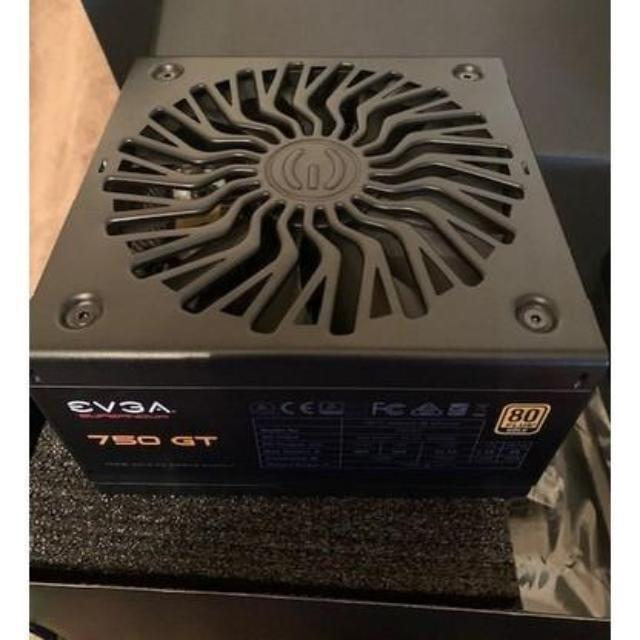PSU: (30, 35, 612, 518)
